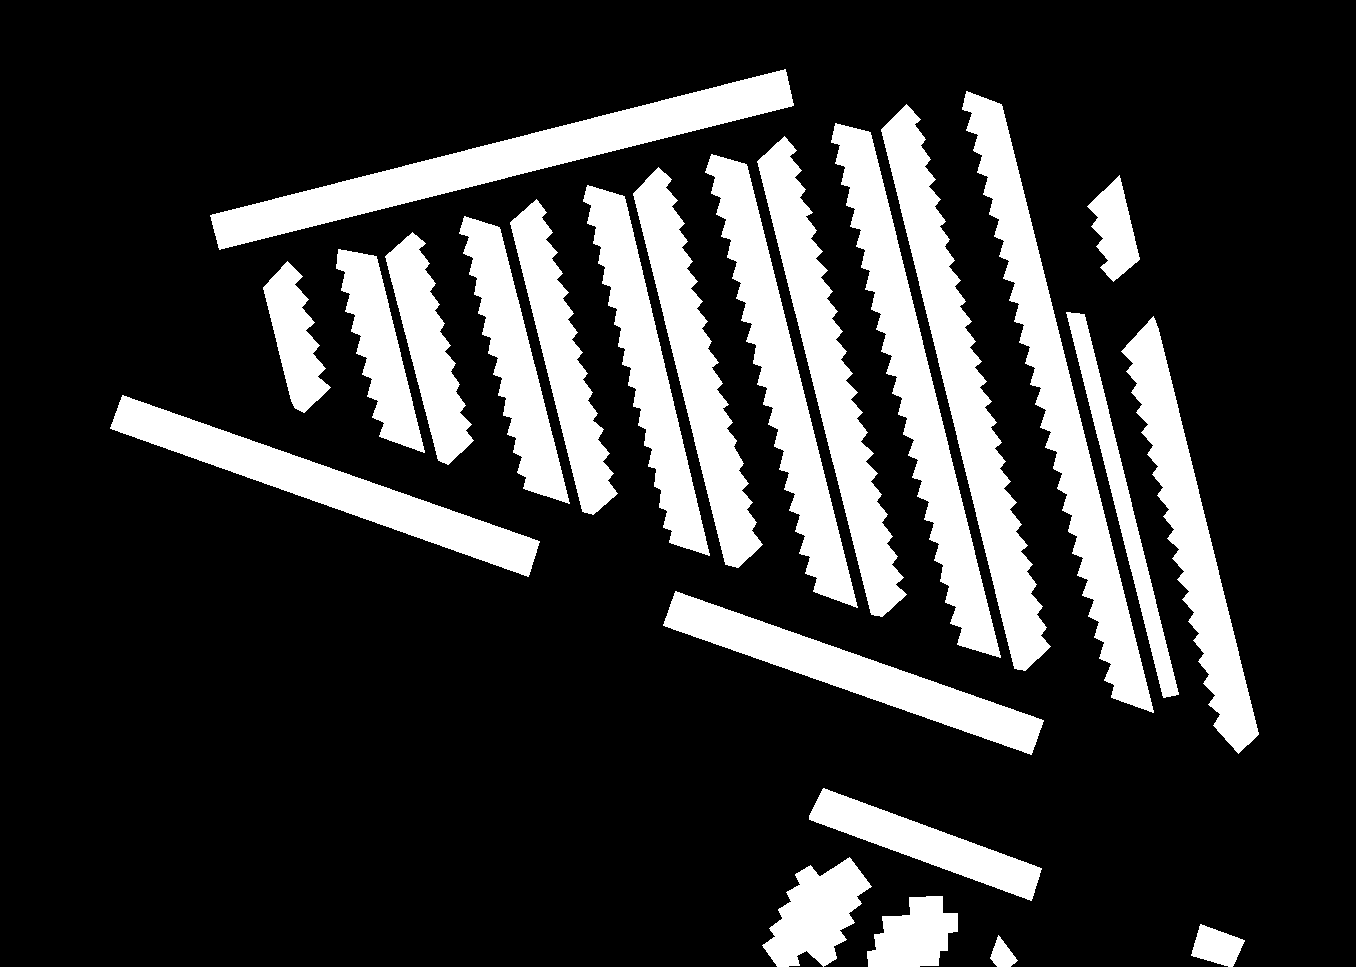parkingspot: (962, 90, 1153, 712), (210, 69, 793, 249), (881, 103, 1050, 670), (831, 122, 1000, 657), (109, 393, 539, 576), (758, 135, 906, 616), (705, 153, 857, 607), (662, 590, 1043, 754), (1121, 315, 1258, 754), (633, 166, 762, 567), (583, 184, 709, 555), (1066, 311, 1178, 697), (510, 198, 617, 514), (459, 215, 569, 503), (809, 788, 1041, 900), (384, 231, 473, 464), (335, 248, 424, 452), (262, 260, 330, 412), (800, 857, 871, 966), (762, 865, 833, 966), (1087, 174, 1139, 282), (900, 896, 957, 966), (867, 915, 920, 967), (1191, 923, 1244, 967), (990, 935, 1017, 966)
